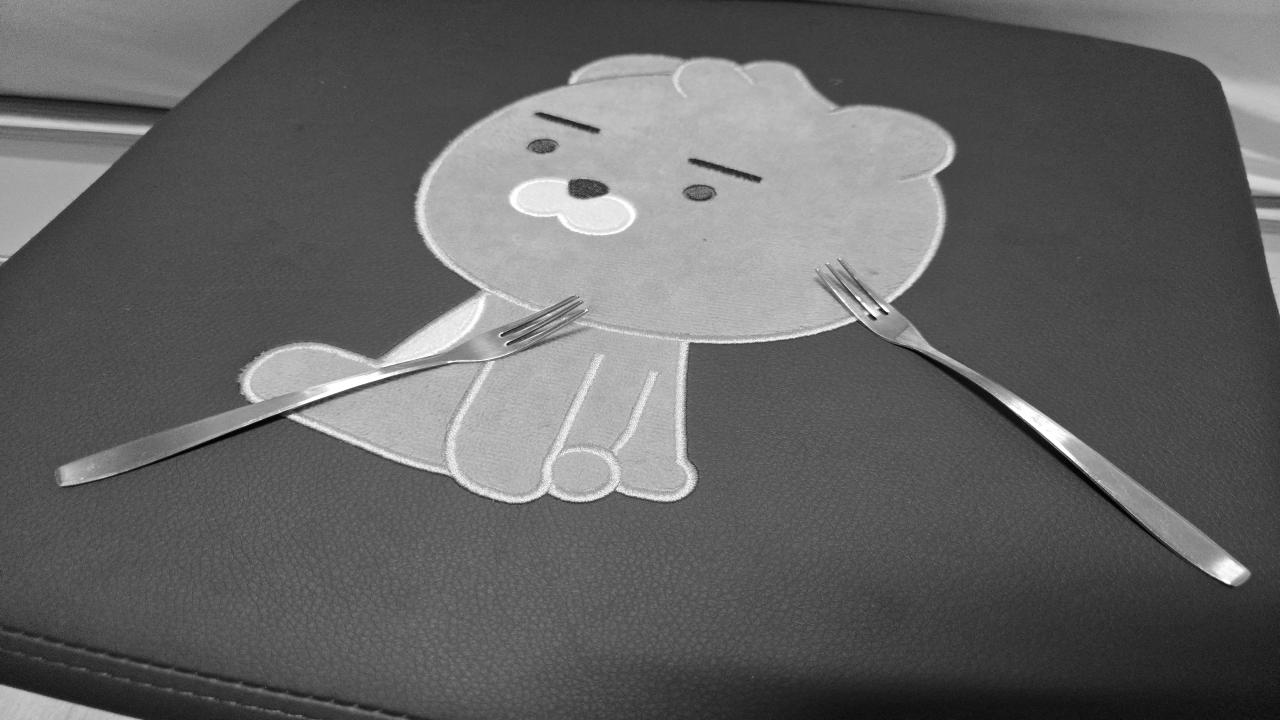fork: (817, 256, 1257, 584), (51, 293, 588, 487)
